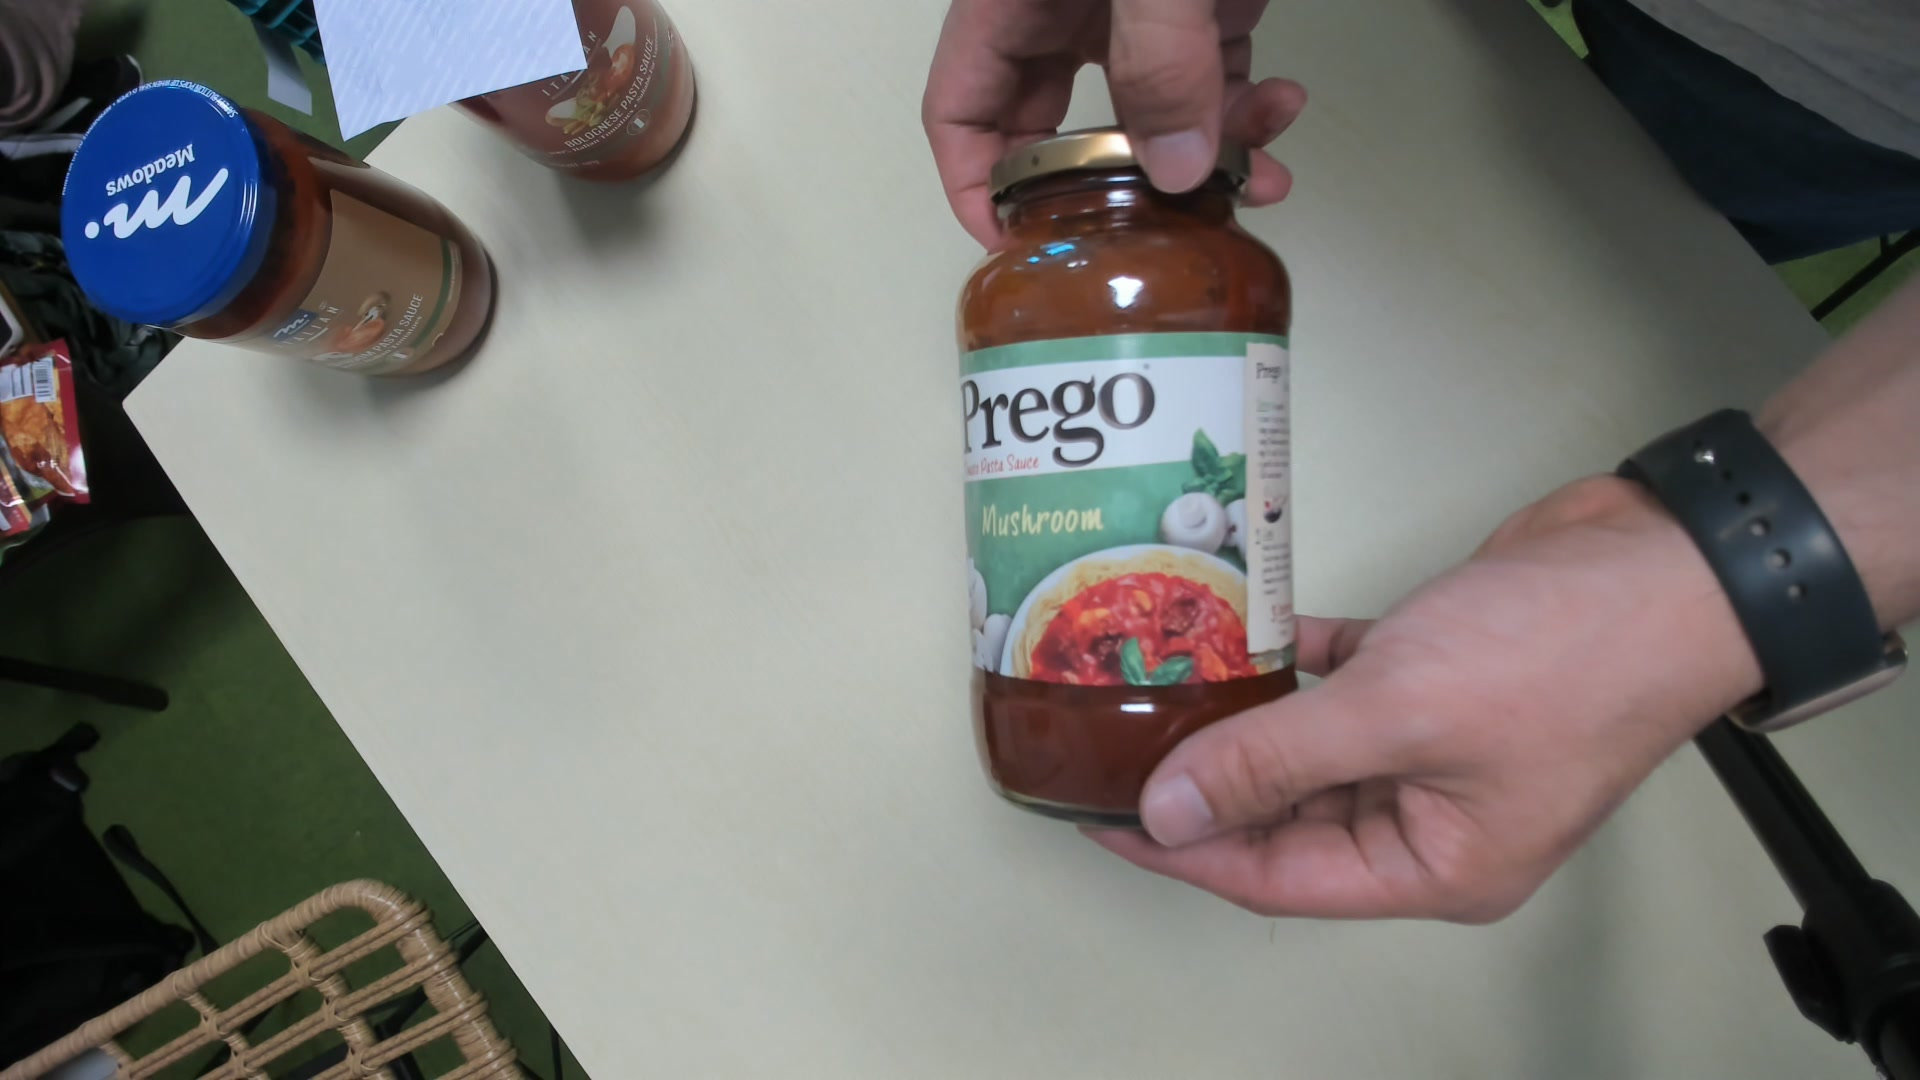PastaSauce_600-699g_Halal_NonHealthy: (952, 128, 1303, 835)
